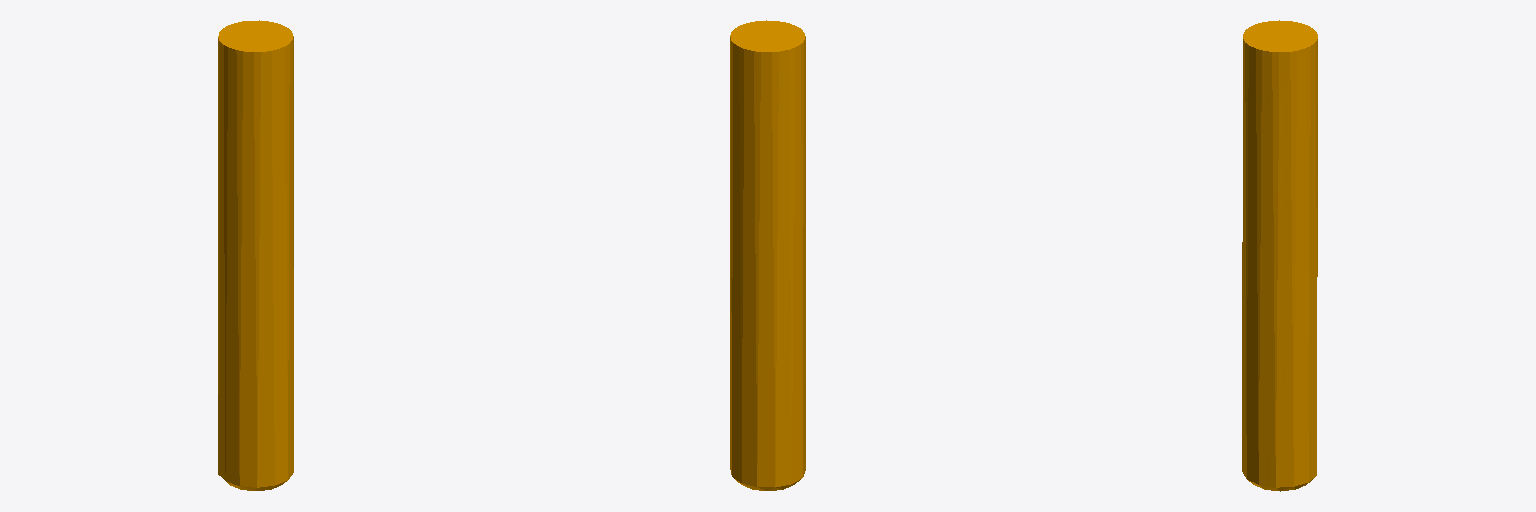
URDF robot description (00559_plug):
<?xml version="1.0"?>
<robot name="00559_plug">
	<link name="00559_plug">
		<visual>
			<geometry>
				<mesh filename="../mesh/00559/asset_plug.obj"/>
			</geometry>
		</visual>
		<collision>
			<geometry>
				<mesh filename="../mesh/00559/asset_plug.obj"/>
			</geometry>
			<sdf resolution="256"/>
		</collision>
	</link>
</robot>

--- Facts derived from the render (not from the file) ---
The picture shows the robot from 3 angles, left to right: view 1: azimuth 30°, elevation 25°; view 2: azimuth 150°, elevation 25°; view 3: azimuth 270°, elevation 25°; orthographic projection.
Model 00559_plug with 1 links and 0 joints (none), rooted at 00559_plug, posed all joints at 0.
Visible links, largest first — view 1: 00559_plug; view 2: 00559_plug; view 3: 00559_plug.
Boxes of the visible links, x1=… form: 00559_plug: x1=218, y1=20, x2=293, y2=490; 00559_plug: x1=730, y1=20, x2=805, y2=490; 00559_plug: x1=1242, y1=20, x2=1317, y2=491.
Bounding box of the posed robot: 0.0089 × 0.0089 × 0.0575 m (x, y, z).
Meshes: 1 distinct files referenced, 1 mesh visuals loaded (1 OBJ).
